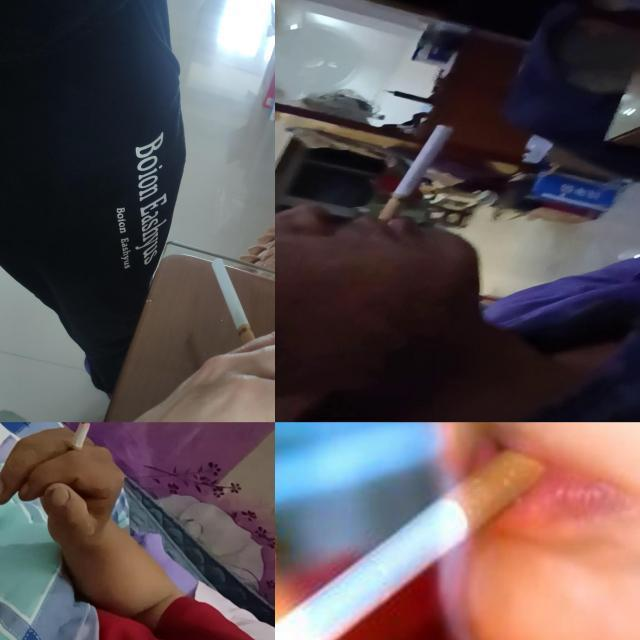rokok: (274, 436, 550, 640), (377, 122, 455, 222), (210, 256, 262, 360), (64, 422, 100, 466)
